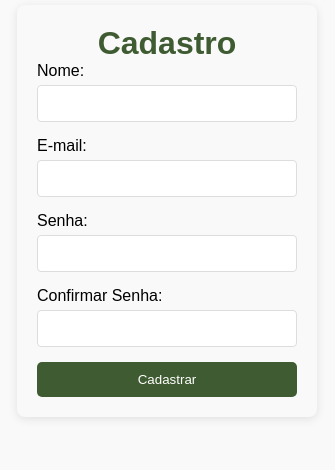
Componente Cadastro › deve exibir uma mensagem de erro após a submissão de senha e confirmar senha incorretos
Type "João Silva" into the field labelled "Nome:".
click(167, 104); type("João Silva")  # box [37,85,297,122]
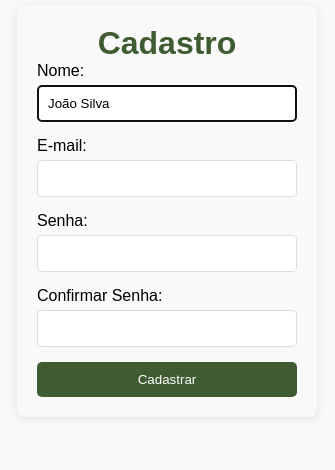
Type "joao@example.com" into the field labelled "E-mail:".
click(167, 178); type("joao@example.com")  # box [37,160,297,197]
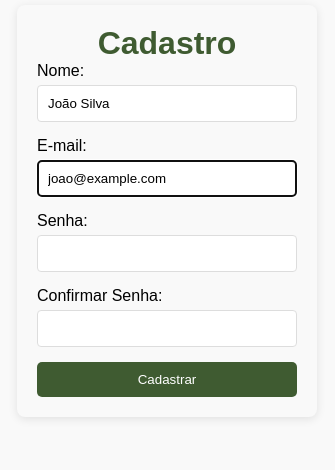
Type "123" into the password field labelled "Senha:".
click(167, 254); type("123")  # box [37,235,297,272]
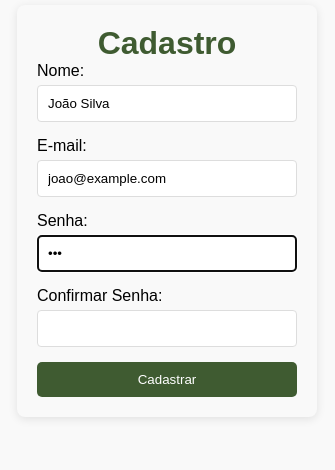
Type "321" into the password field labelled "Confirmar Senha:".
click(167, 328); type("321")  # box [37,310,297,347]
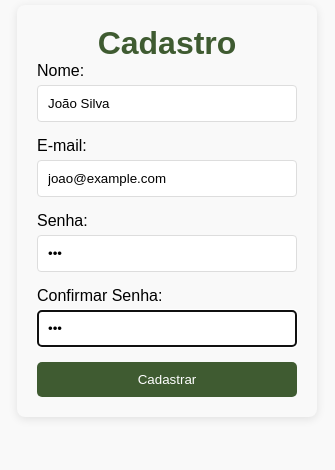
Click the button "Cadastrar".
click(167, 380)  # box [37,362,297,397]
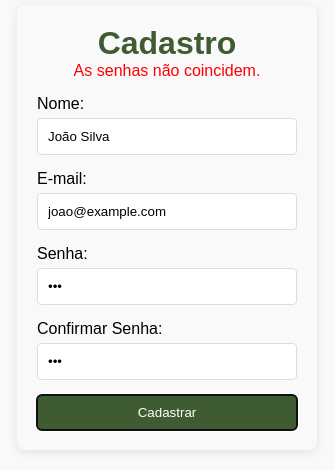
Check: the text "As senhas não coincidem." is shown, box [74,62,260,79]
